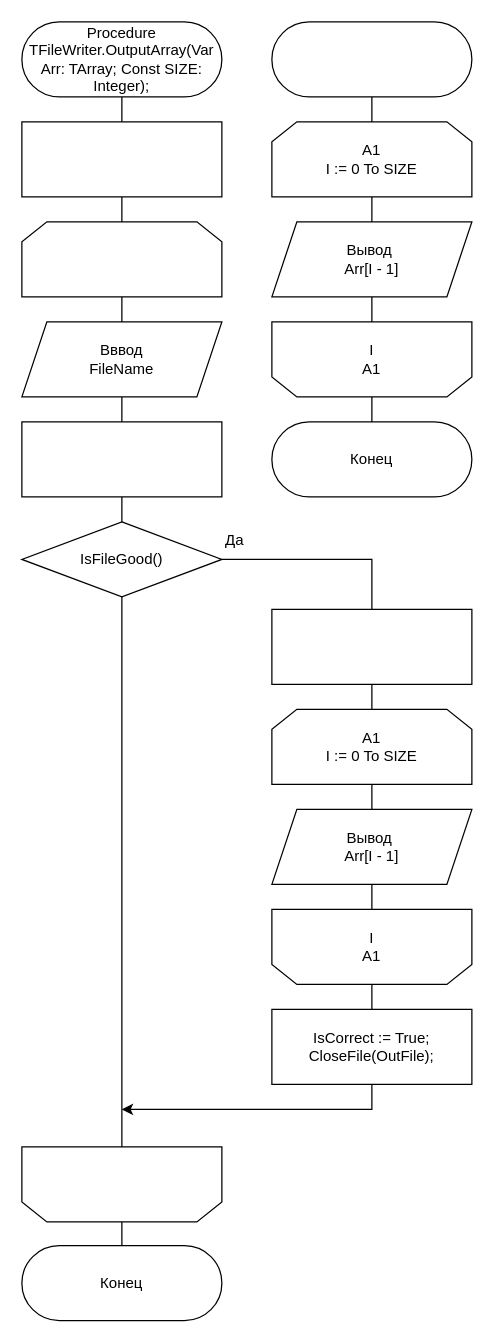
Some shapes in this 494 by 1343 pixel diagram are drawn without their labels. The shapes that lost their labels are listed below. From the top down, each one's box as (x1, y1, x2, y2) in pixels, then its label:
(271, 21, 472, 97): Procedure TConsoleWriter.OutputArray (Var Arr: TArray; Const SIZE: Integer);
(21, 121, 222, 197): IsCorrect := False;
(21, 221, 222, 297): A1
(21, 421, 222, 497): AssignFile(OutFile, FileName);
(271, 608, 472, 684): Rewrite(OutFile);
(21, 1146, 222, 1222): (IsCorrect) A1
